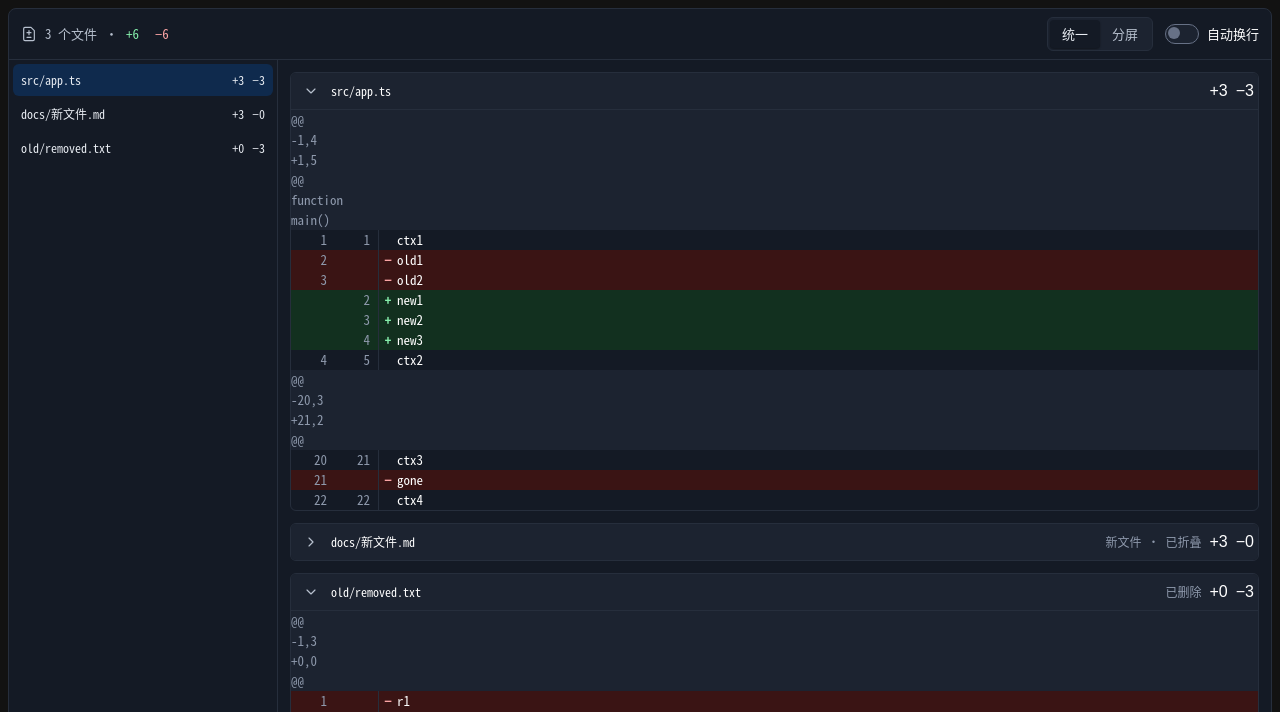
折叠、当前文件与补丁变化 › 新文件缺省折叠：aria-expanded、hidden、没有行、注记；点开后有行、注记变化
Step 1. Click the button named "展开" → (311,542), box [299,530,323,554]
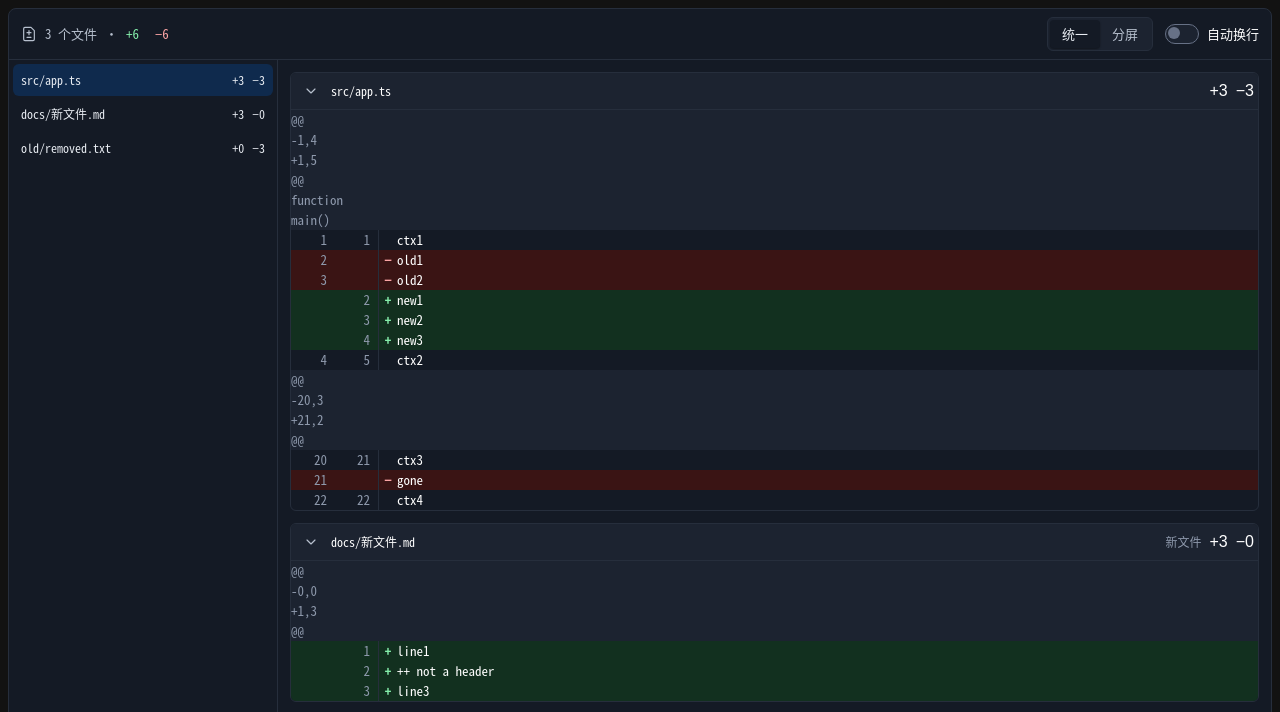
Check: the 2nd button named "折叠" is expanded, box [299,530,323,554]
Check: the text with class "tt-diff__file-note" reads "新文件", box [1166,533,1202,550]
